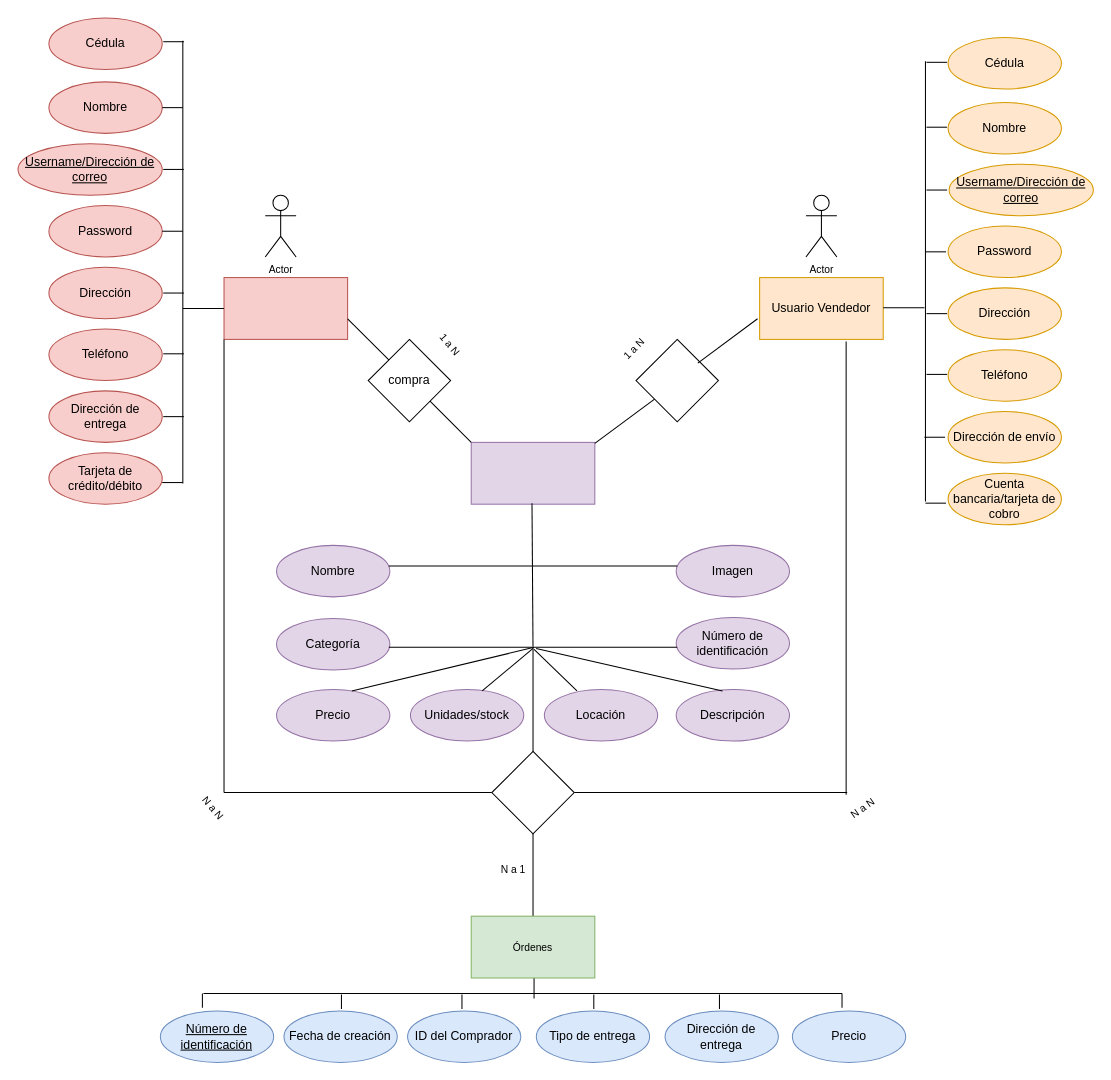
The diagram is 1111 pixels wide and 1080 high, and some of its shapes have lost their labels. Each missing label, with the centre of its shape:
"Generan" belongs at pixel 532 792.
"Productos" belongs at pixel 532 472.
"Usuario Comprador" belongs at pixel 285 308.
"vende" belongs at pixel 676 380.
